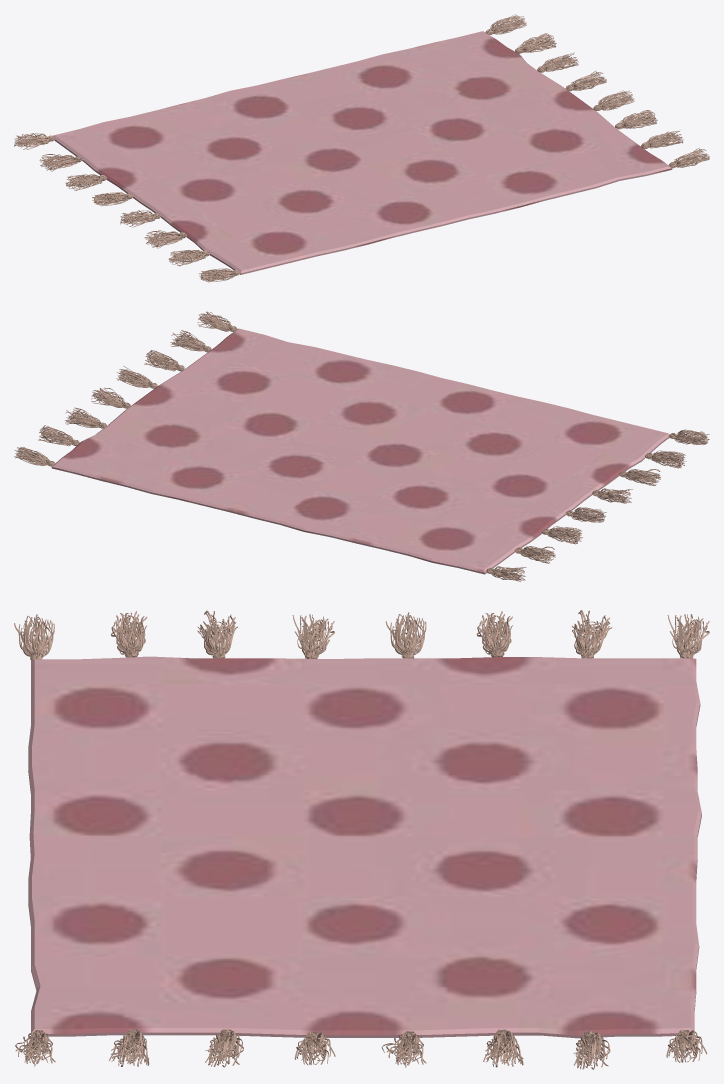
Rendered from rug.fbx.
3 renders of one model, top to bottom at view 1: azimuth 30°, elevation 25°; view 2: azimuth 150°, elevation 25°; view 3: azimuth 270°, elevation 25°, orthographic. The views are drawn at different scales.
Visible parts, largest first — view 1: Rug_17; view 2: Rug_17; view 3: Rug_17.
Part boxes in pixels (x1,y1,x2,y2): Rug_17: (14, 14, 709, 282); Rug_17: (14, 311, 709, 581); Rug_17: (14, 610, 709, 1069).
Size of the model in its own units: 232 by 5.77 by 154.
